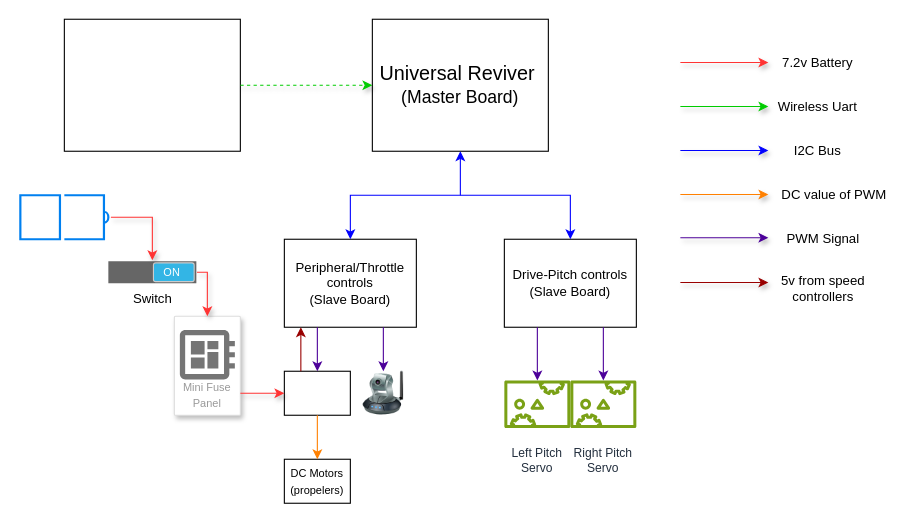
The diagram is 919 pixels wide and 523 high, and some of its shapes have lost their labels. The centre of each missing label's shape, as x and y in pixels:
"Camera" belongs at pixel 383 393.
"F/R Speed Controlers" belongs at pixel 316 392.
"Lithium Ion Battery (2 cell 7.4v)" belongs at pixel 64 217.
"Universal Controller" belongs at pixel 151 84.
